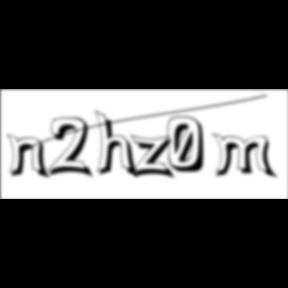0: (168, 115, 212, 174)
2: (47, 117, 97, 181)
h: (96, 108, 142, 182)
m: (212, 132, 280, 181)
n: (7, 132, 54, 181)
z: (130, 134, 180, 182)
